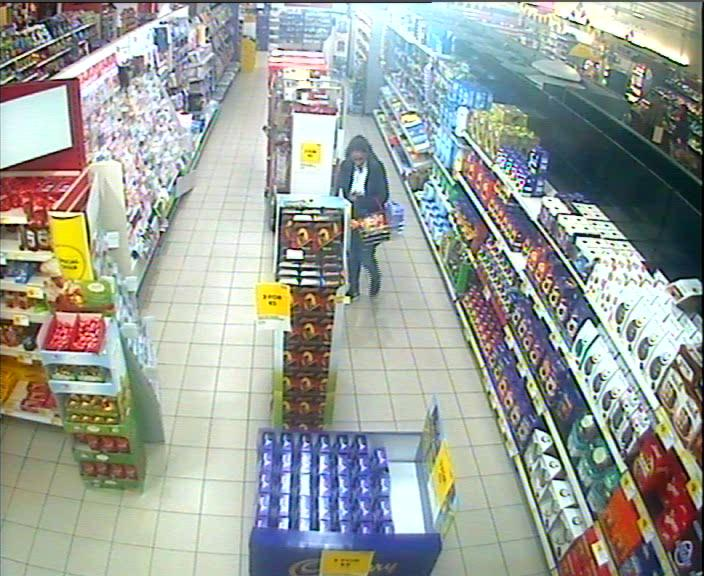filled-basket: (353, 199, 406, 247)
person: (334, 134, 389, 300)
person-with-filled-basket-trolly: (335, 135, 407, 302)
